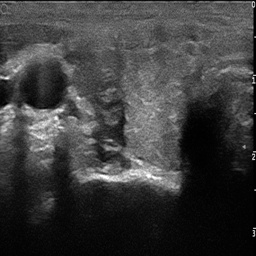mass: (82, 91, 127, 159)
